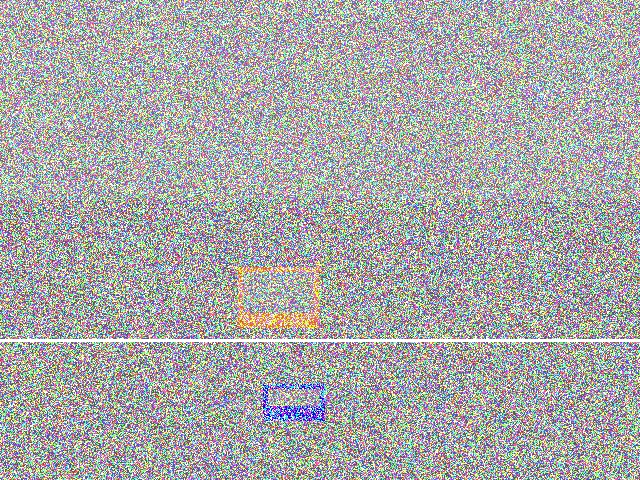bus: (154, 313, 314, 388), (215, 351, 324, 441)
